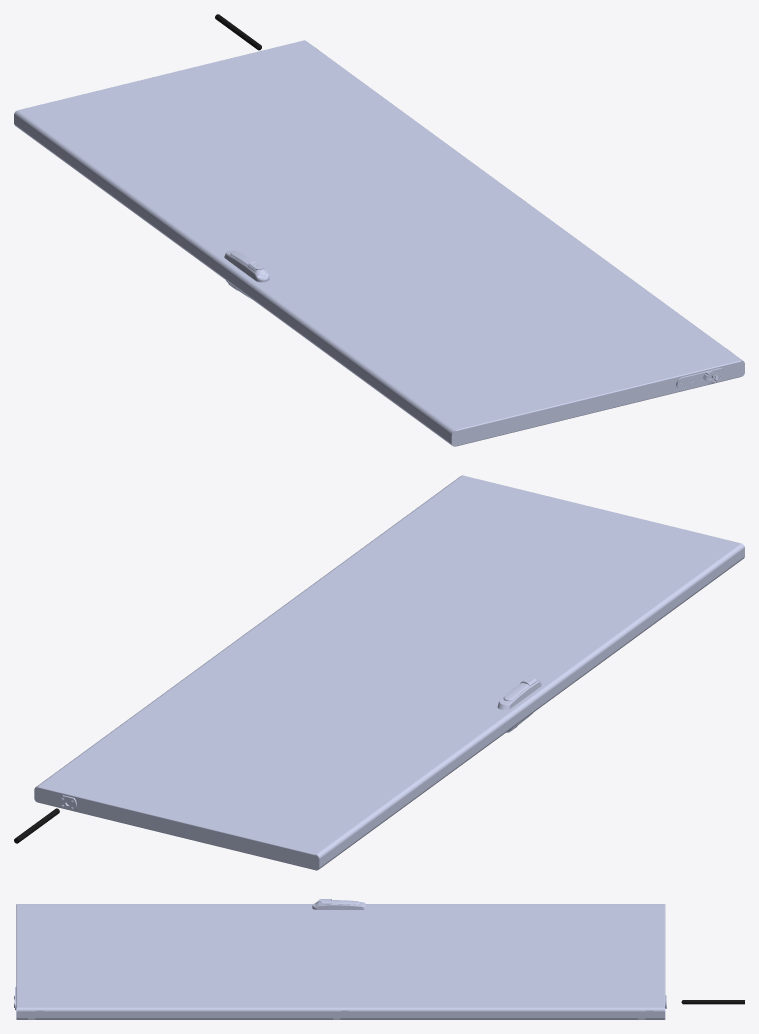
File: step-5.glb
The picture shows the model from 3 angles, top to bottom: view 1: azimuth 30°, elevation 25°; view 2: azimuth 150°, elevation 25°; view 3: azimuth 270°, elevation 25°; orthographic projection. The views are drawn at different scales.
Parts seen in each view (by area): view 1: door2-1; view 2: door2-1; view 3: door2-1, screw_v43294-1.
Part boxes in pixels (bbox=[...]): door2-1: bbox=[14, 40, 744, 446]; door2-1: bbox=[34, 475, 744, 870]; door2-1: bbox=[16, 899, 665, 1019]; screw_v43294-1: bbox=[681, 1000, 744, 1004].
Size of the model in its own units: 0.8022 by 0.0992 by 2.34.
